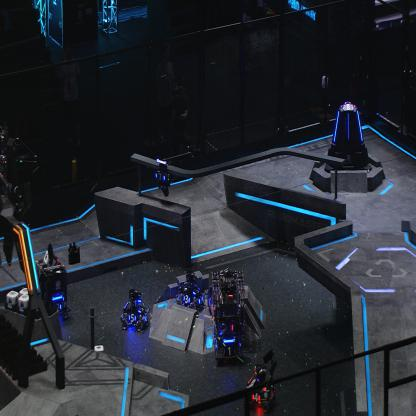car: (32, 255, 69, 319), (212, 268, 245, 333), (212, 304, 243, 362), (243, 362, 276, 412), (175, 267, 205, 315), (120, 286, 150, 332)
